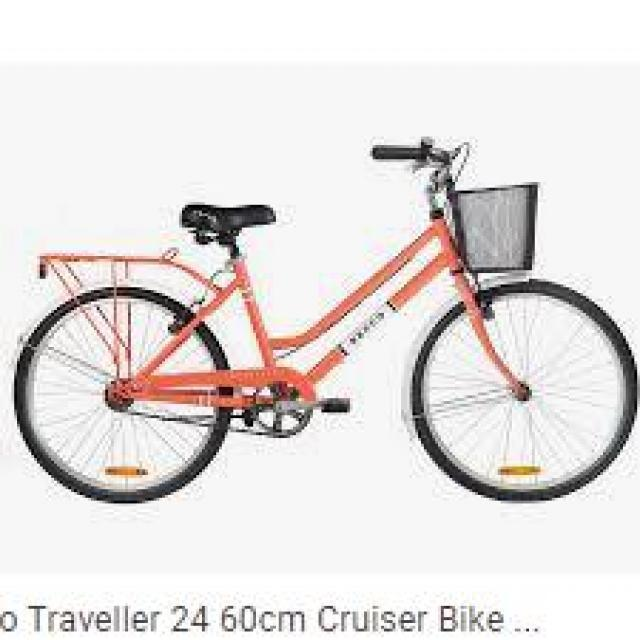bicycle: (12, 109, 640, 553)
